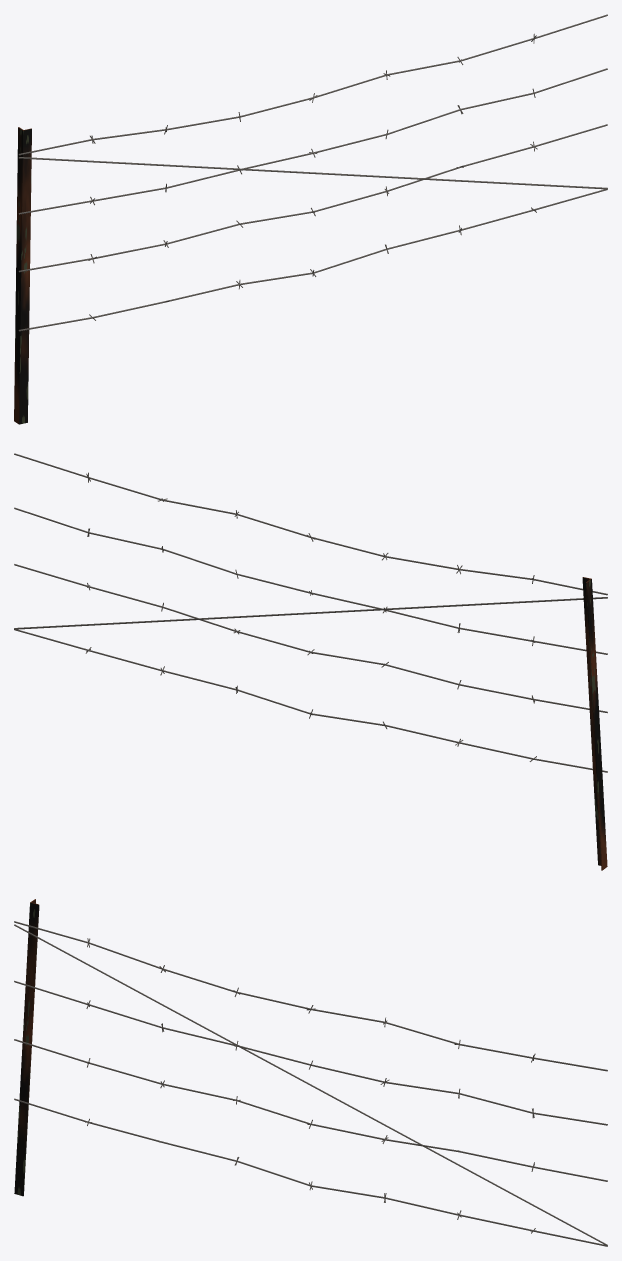
File: S7U_WireFence_3m.fbx
The picture shows the model from 3 angles, top to bottom: view 1: azimuth 30°, elevation 25°; view 2: azimuth 150°, elevation 25°; view 3: azimuth 330°, elevation 25°; orthographic projection.
Visible parts, largest first — view 1: S7U_WireFence_3m; view 2: S7U_WireFence_3m; view 3: S7U_WireFence_3m.
Boxes of the visible parts, x1=… form: S7U_WireFence_3m: x1=14, y1=14, x2=607, y2=424; S7U_WireFence_3m: x1=14, y1=453, x2=607, y2=870; S7U_WireFence_3m: x1=14, y1=899, x2=607, y2=1246.
Size of the model in its own units: 3 by 1.4 by 0.1171.
